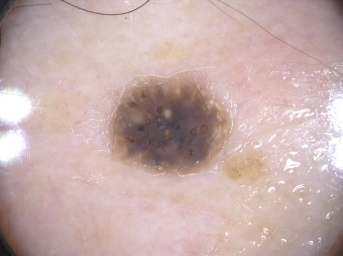seborrheic keratosis: (74, 57, 275, 198)
